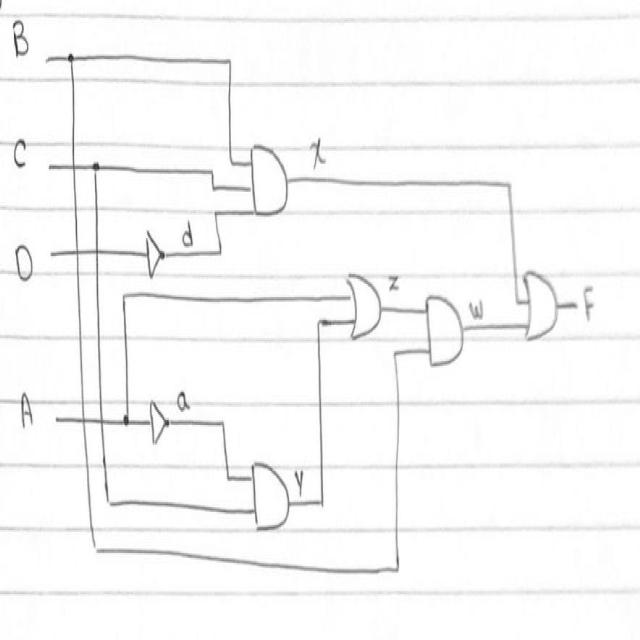AND: (246, 451, 294, 552), (247, 130, 294, 231), (420, 287, 468, 381)
NOT: (145, 388, 174, 455), (142, 218, 169, 287)
OR: (520, 258, 562, 351), (342, 263, 384, 355)
